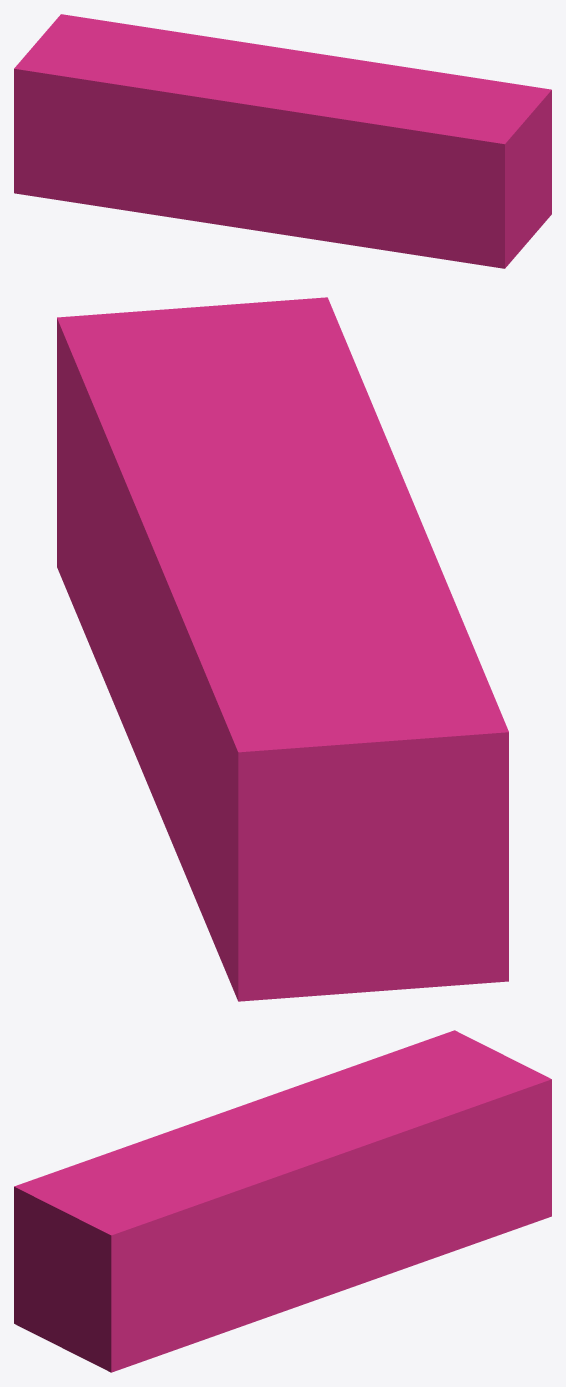
File: Tool04.fbx
3 renders of one model, top to bottom at view 1: azimuth 30°, elevation 25°; view 2: azimuth 150°, elevation 25°; view 3: azimuth 270°, elevation 25°, orthographic. The views are drawn at different scales.
Visible parts, largest first — view 1: Tool04; view 2: Tool04; view 3: Tool04.
Part boxes in pixels (x1,y1,x2,y2): Tool04: (14,14,551,268); Tool04: (57,297,508,1001); Tool04: (14,1030,551,1372).
Bounding box in the file's own units: 101 × 31.59 × 112.
